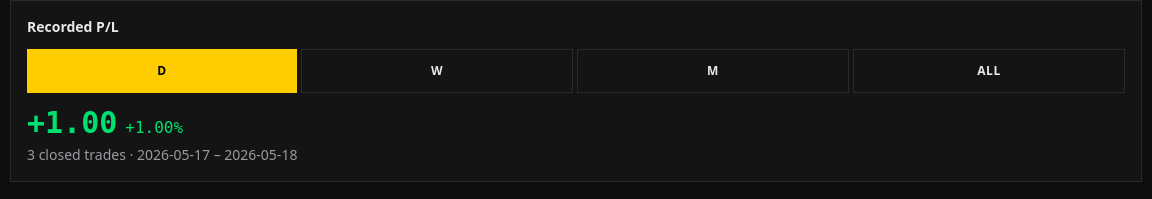
Test: RealisedPnlCard › re-reads the period-specific query for the M and All toggles
Expected: the text with test id "realised-total-profit" shows "+1", [27,105,117,140]
Click the button with test id "realised-period-m" at x=713, y=71, box [577,49,849,93]
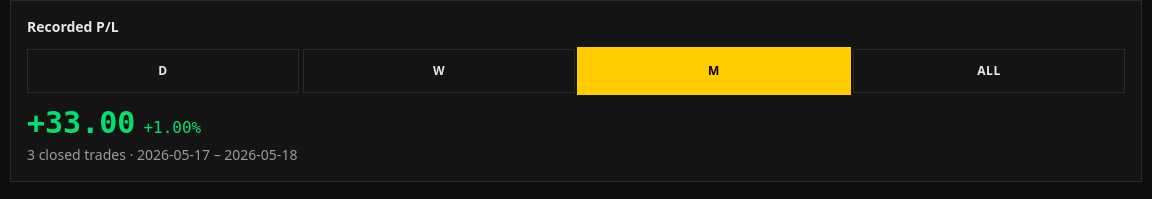
Expected: the text with test id "realised-total-profit" shows "+33", [27,105,135,140]
Click the button with test id "realised-period-a" at x=989, y=71, box [853,49,1125,93]
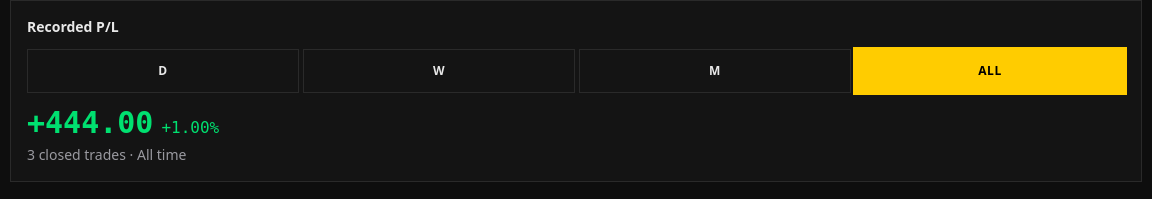
Expected: the text with test id "realised-total-profit" shows "+444", [27,105,153,140]
